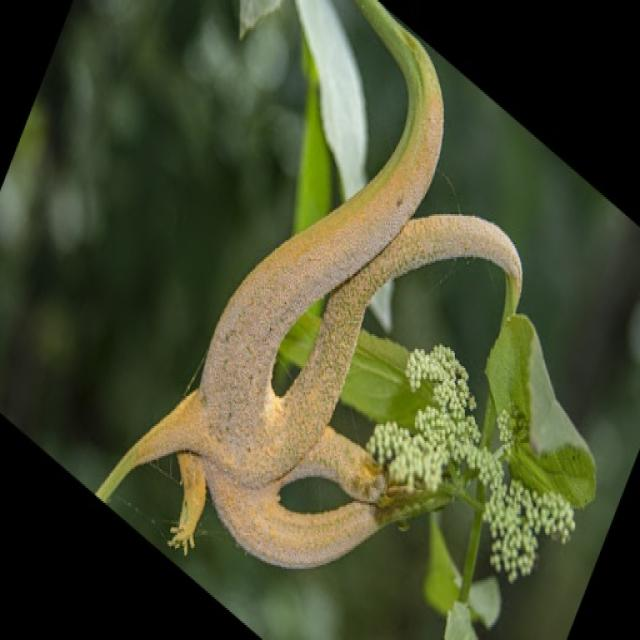Elderberry_rust: (155, 5, 502, 640)
